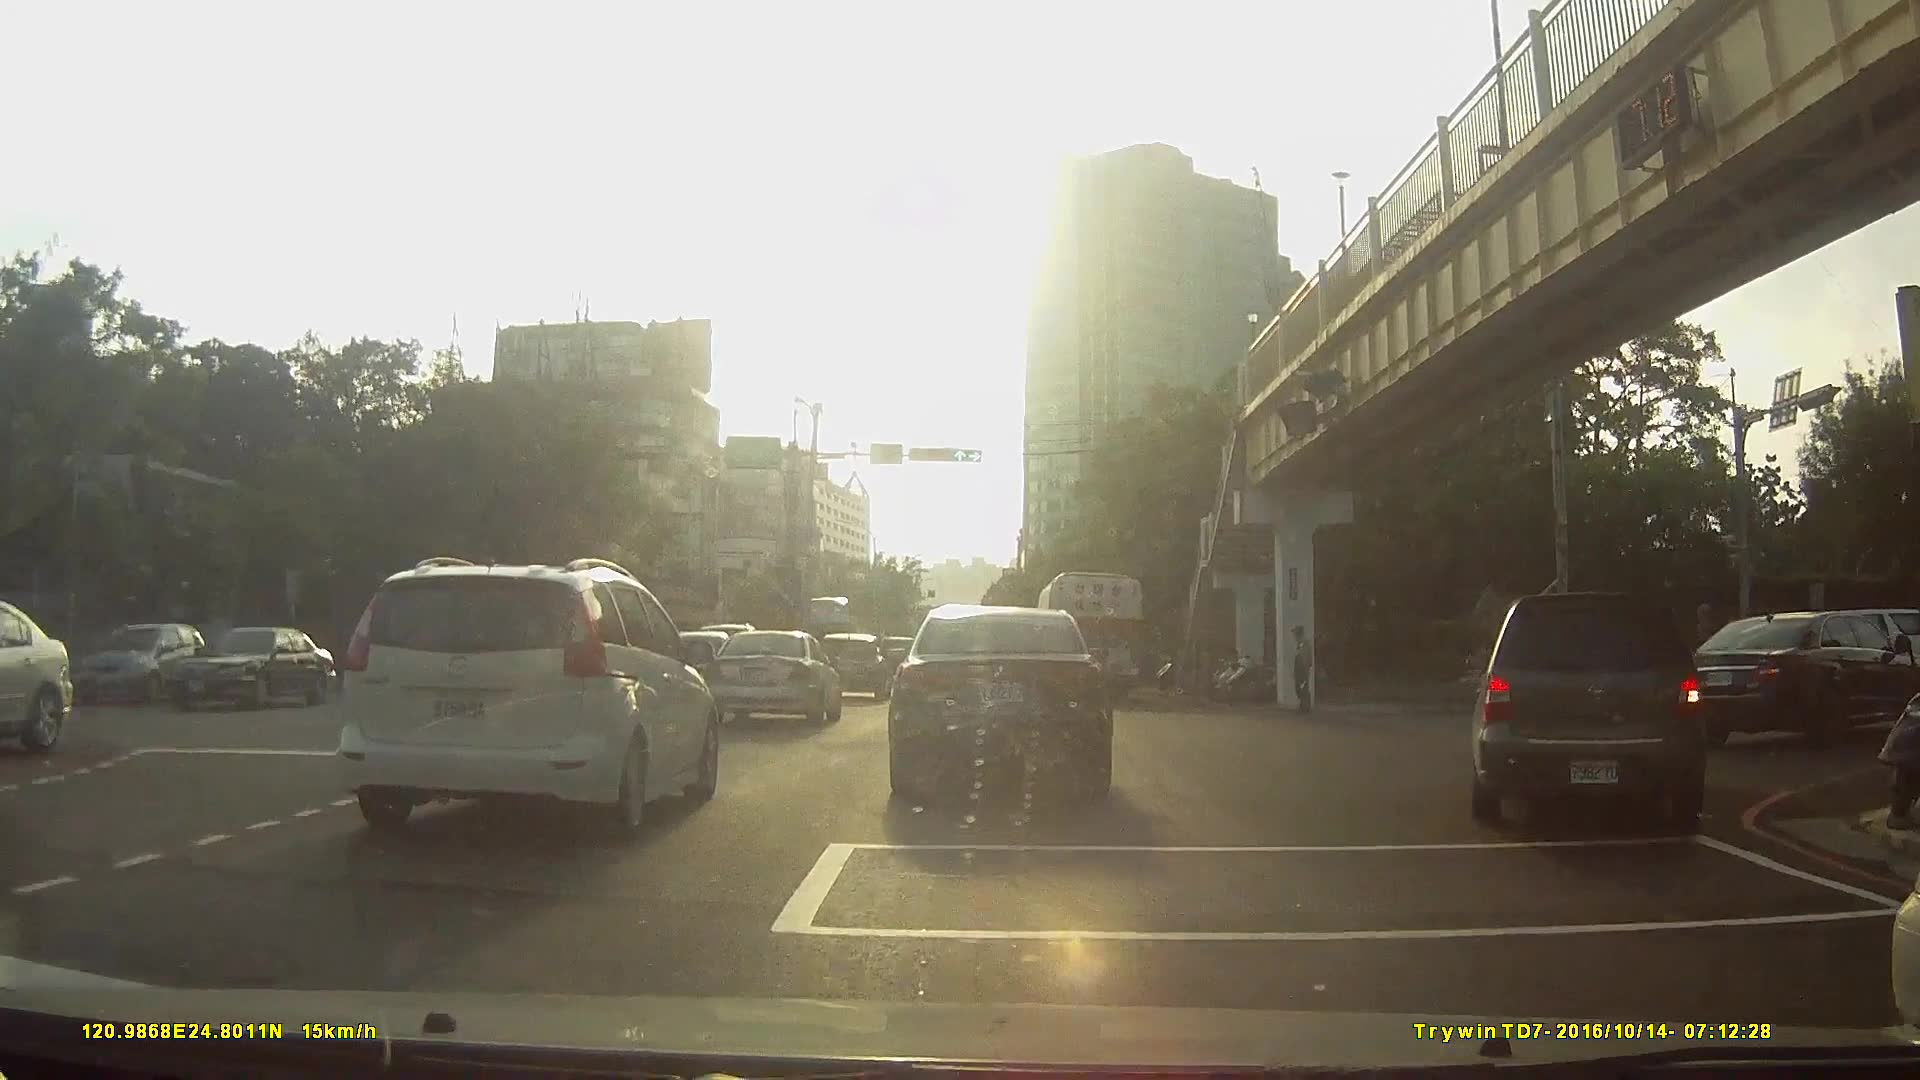pedestrian: (1286, 621, 1324, 719)
vehicle: (338, 552, 721, 838), (1460, 584, 1720, 831), (888, 599, 1112, 808), (1664, 609, 1908, 748), (130, 625, 348, 724), (1033, 568, 1144, 704), (706, 628, 844, 729), (1, 597, 80, 760), (75, 623, 211, 708), (816, 631, 892, 702)
